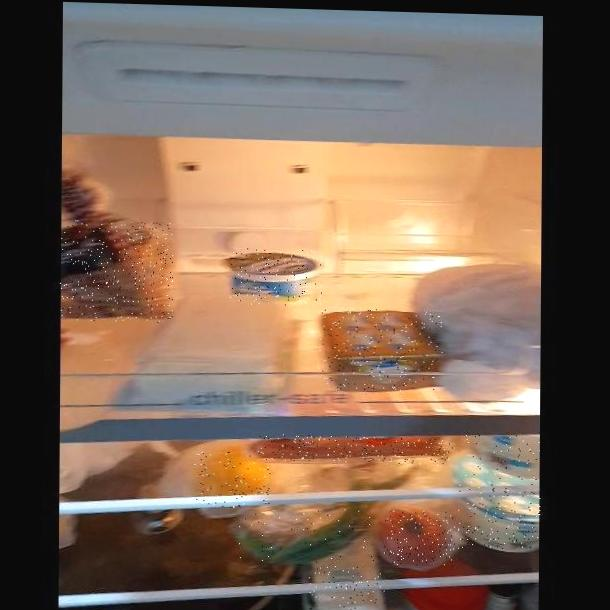bread: (60, 220, 174, 323)
butter: (319, 308, 443, 392)
carrot: (257, 434, 453, 466)
green chilies: (239, 506, 380, 567)
lemon: (194, 451, 272, 509)
milk: (307, 565, 385, 610)
tomato: (384, 508, 455, 567)
yoghurt: (458, 481, 541, 551), (230, 247, 323, 307), (466, 434, 542, 480)
